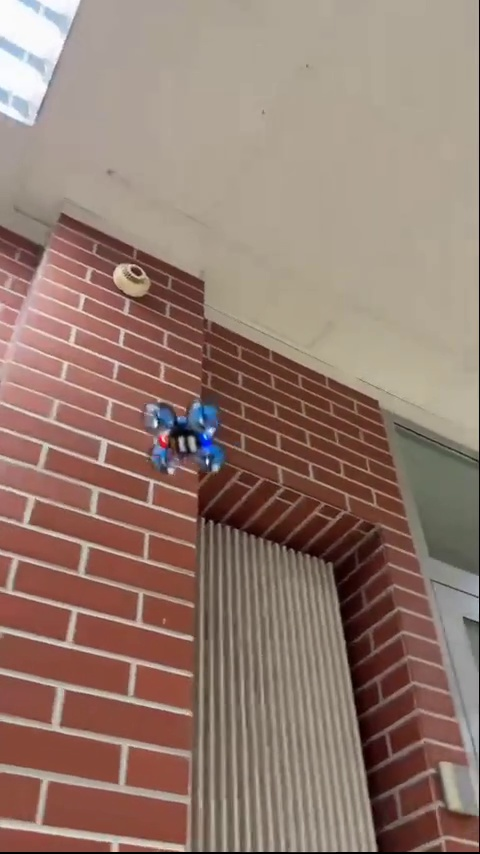drone: (142, 399, 224, 473)
